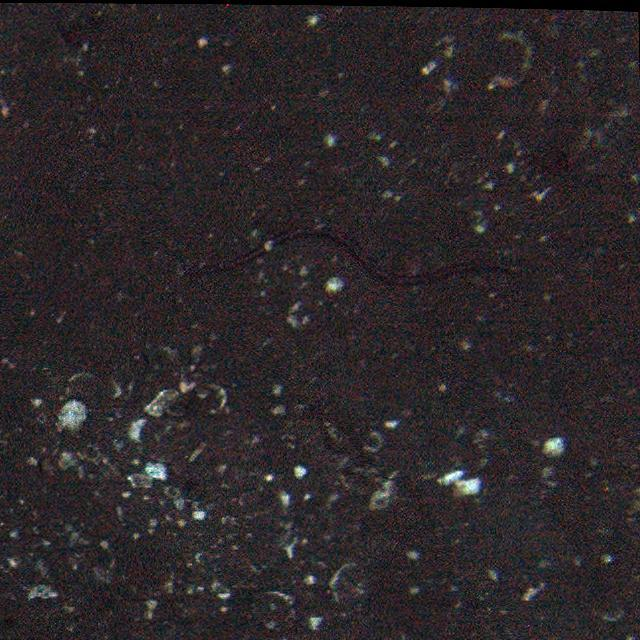eel: (197, 226, 501, 292)
